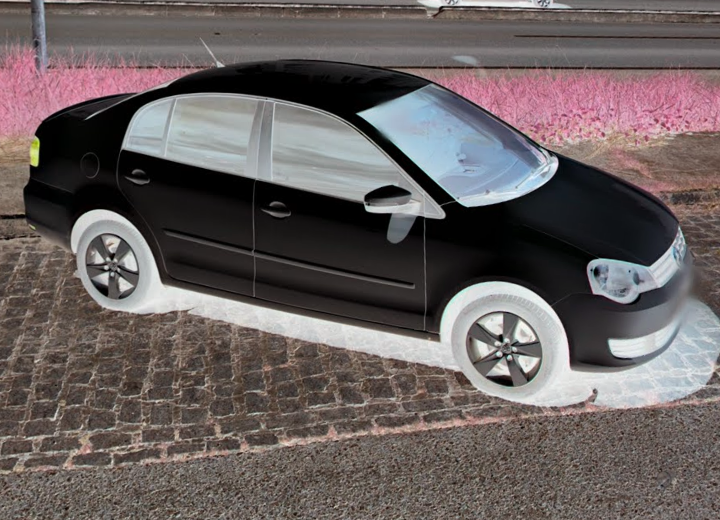car: (23, 33, 698, 403)
